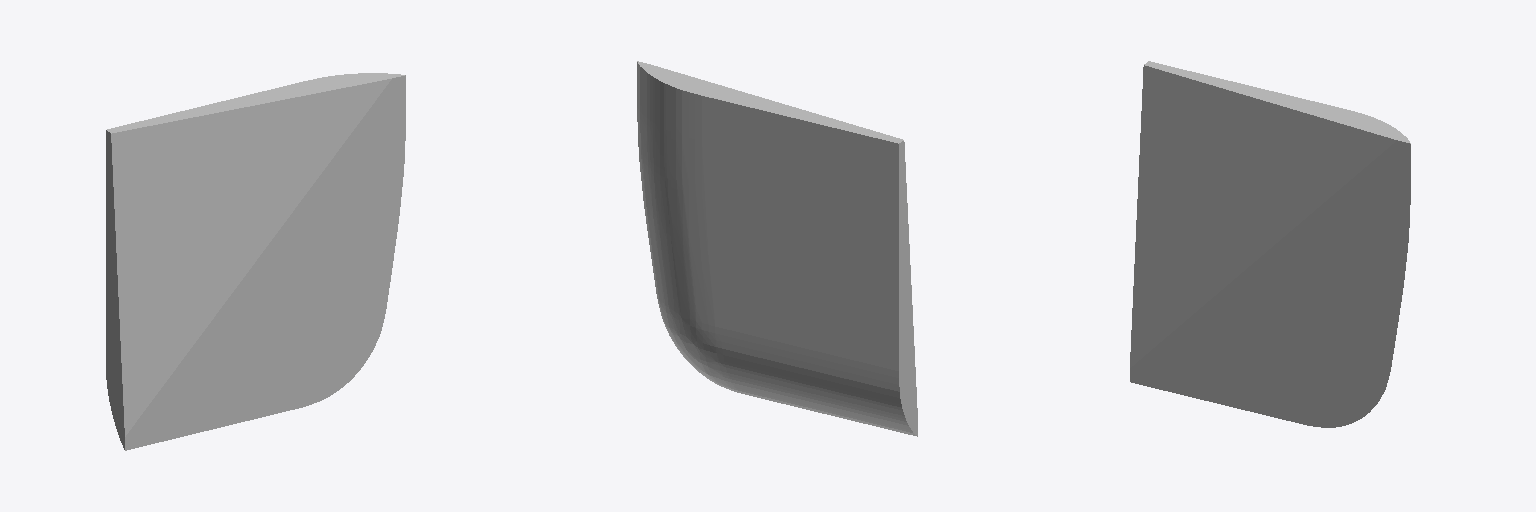
File: laundry_basket_collision_0.obj
3 views of the same model, side by side, from view 1: azimuth 30°, elevation 25°; view 2: azimuth 150°, elevation 25°; view 3: azimuth 330°, elevation 25° (orthographic).
Bounding box in the file's own units: 1.25 × 1.3 × 0.1472.